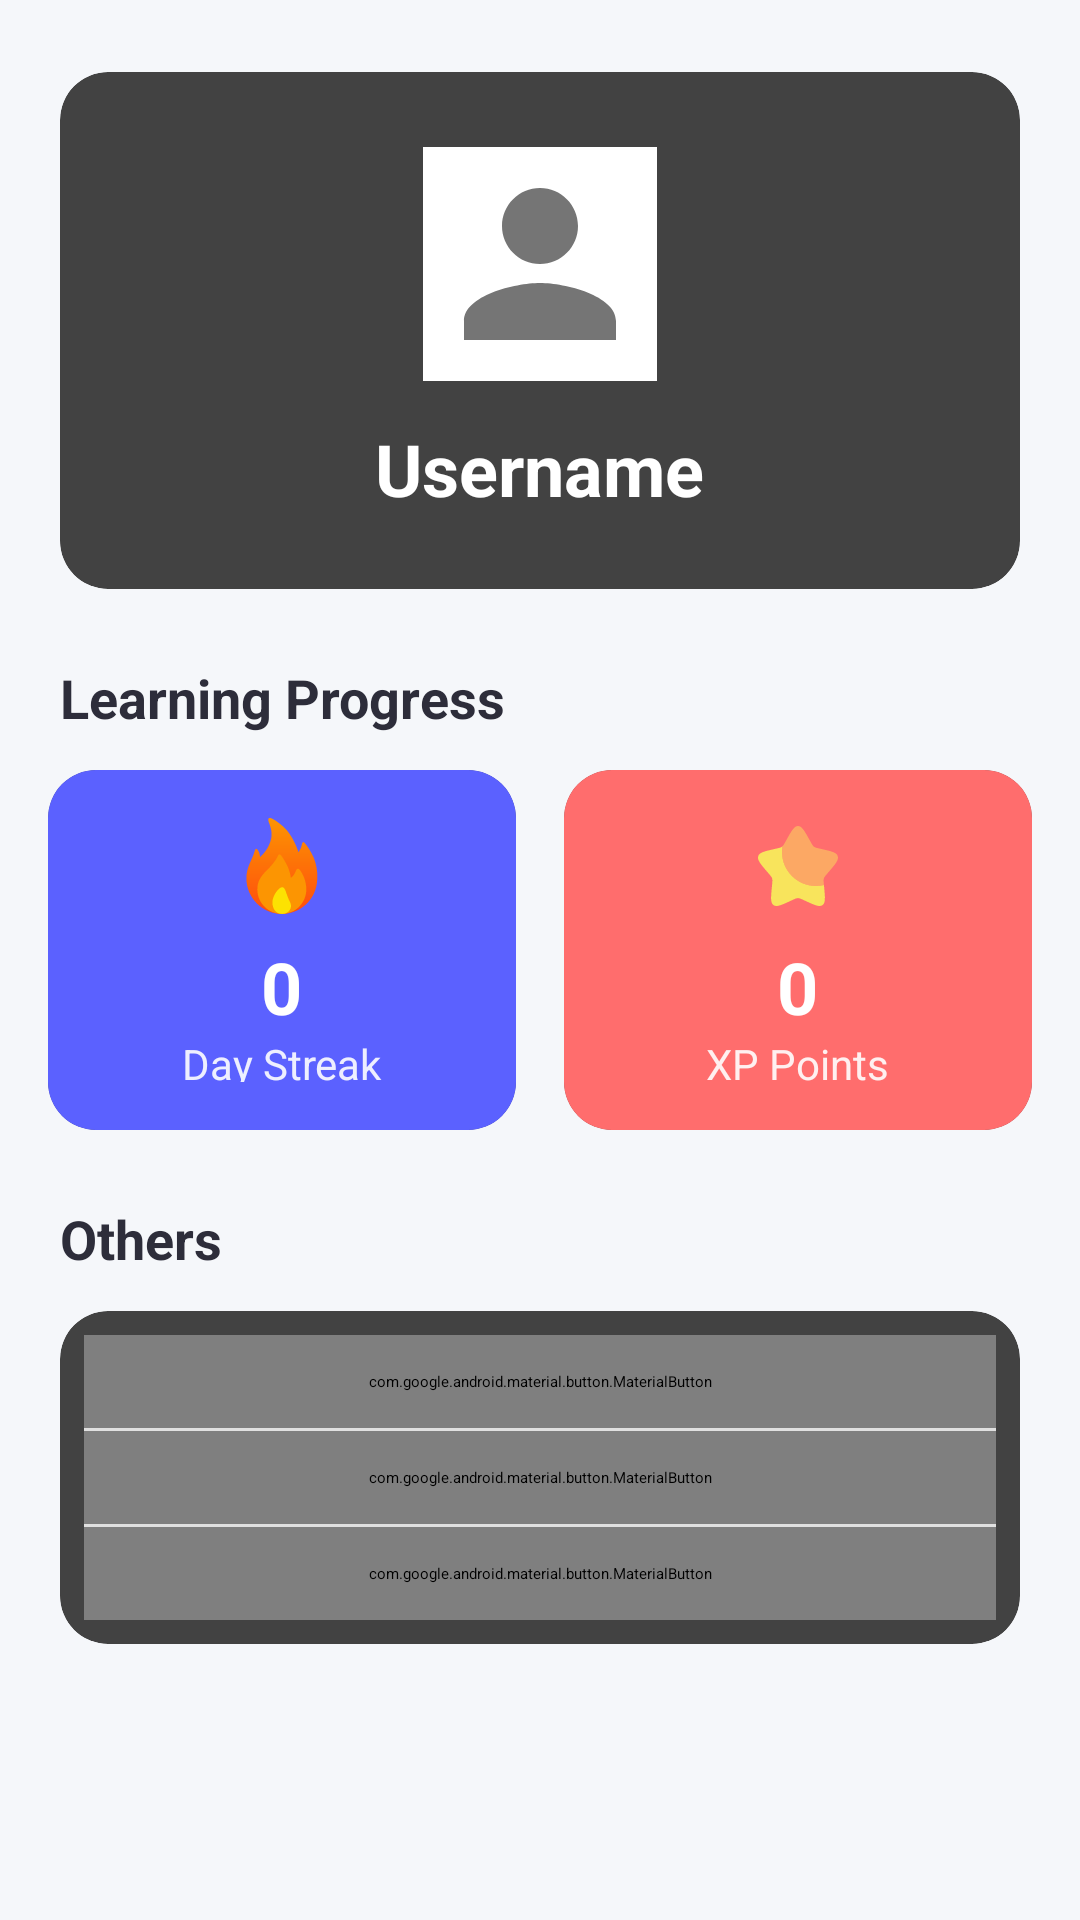

Icon bounding boxes for this 1080px×1920px phone screenshot, format (x1, y1, x2, y2):
star: (758, 826, 838, 906)
streak fire: (246, 818, 318, 914)
